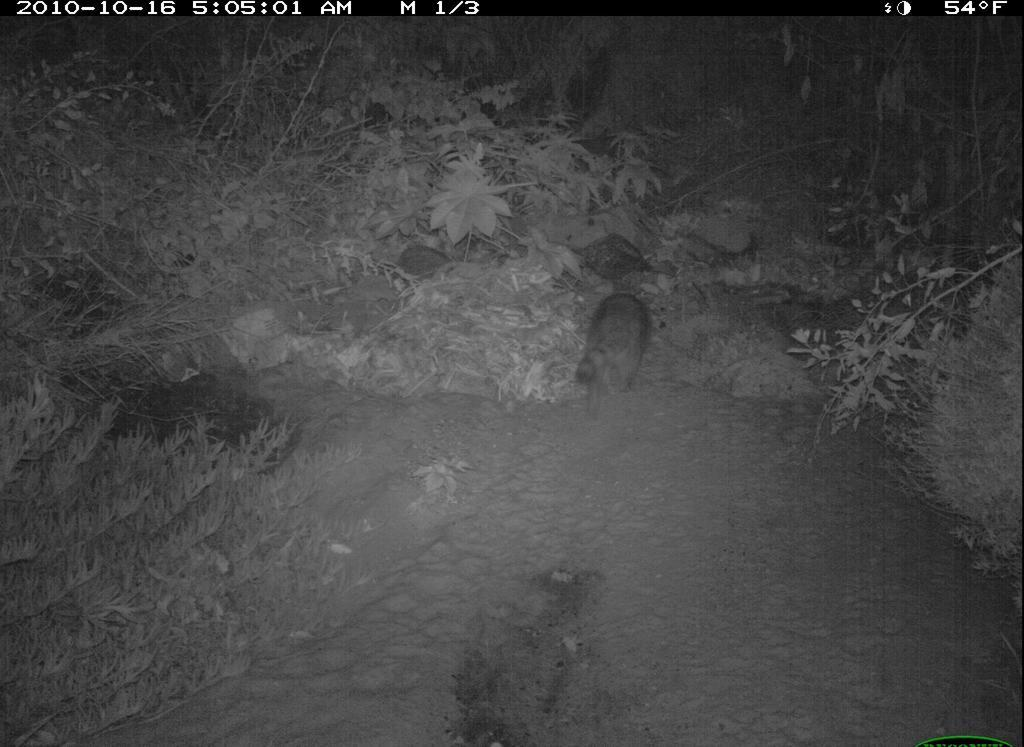raccoon: (571, 289, 667, 425)
